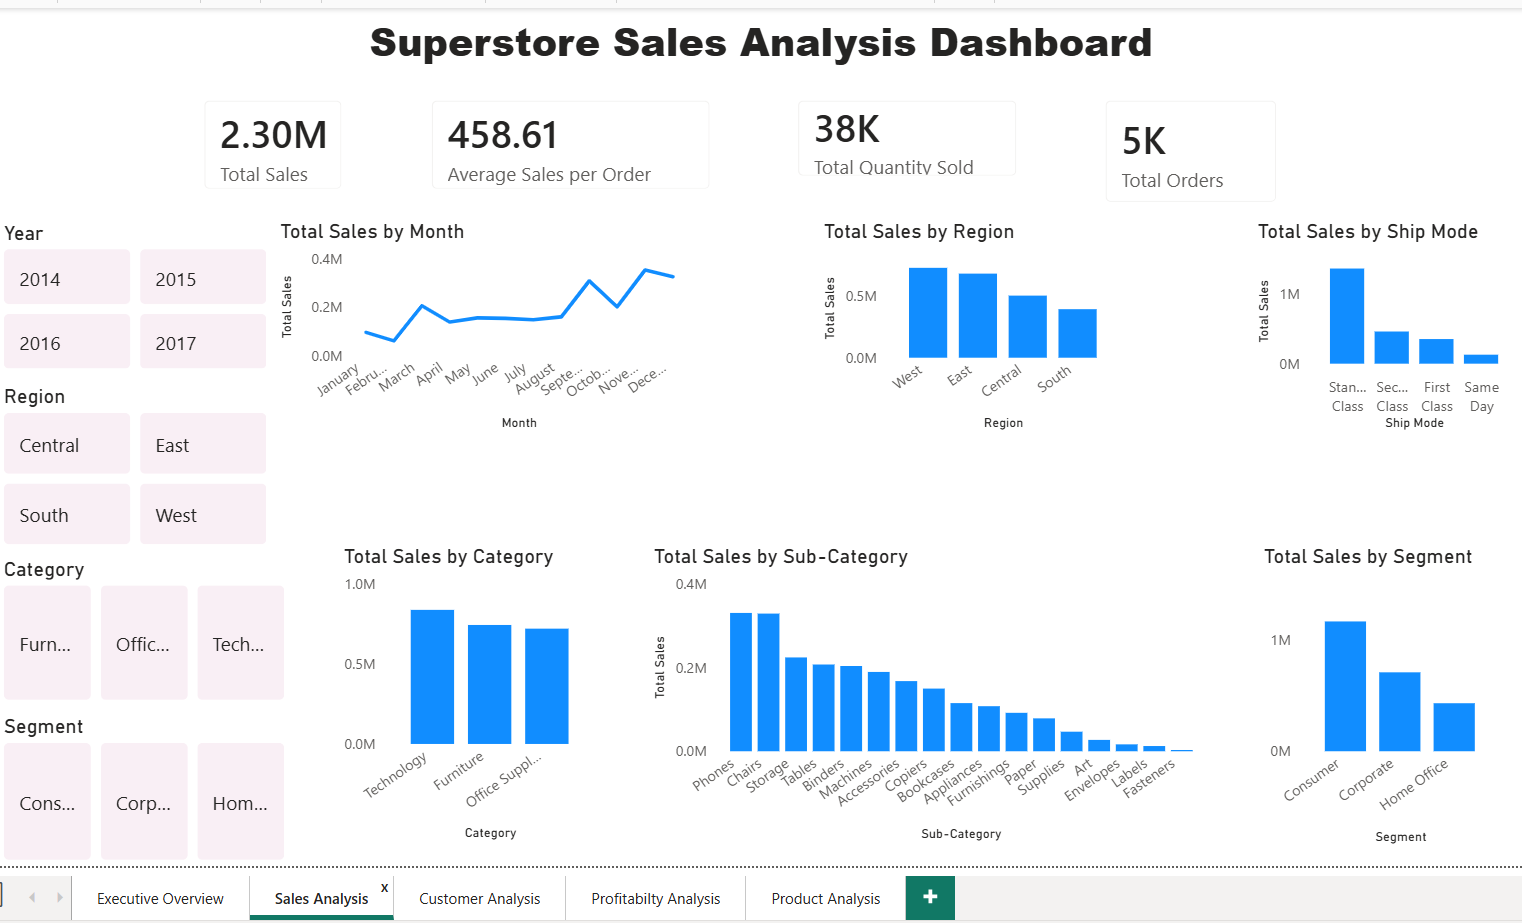

What the dashboard file says about the page in this screenshot:
{"tool":"powerbi","page":{"name":"Sales Analysis","canvas":[1280,720],"ordinal":1},"visuals":[{"type":"cardVisual","fields":{"Data":["Measures (2).Total Sales"]},"box":[156.6,61.3,149.8,108.9],"z":0},{"type":"cardVisual","fields":{"Data":["Measures (2).Total Orders"]},"box":[912.3,61.3,177,119.1],"z":1000},{"type":"cardVisual","fields":{"Data":["Measures (2).Average Sales per Order"]},"box":[346.7,61.3,267.2,108.9],"z":2000},{"type":"cardVisual","fields":{"Data":["Measures (2).Total Quantity Sold"]},"box":[654.2,61.3,217.9,97],"z":3000},{"type":"lineChart","fields":{"Y":["Measures (2).Total Sales"],"Category":["Dim_Date.Order Date.Variation.Date Hierarchy.Month"]},"box":[231.5,177,348.9,182.1],"z":4000},{"type":"clusteredColumnChart","fields":{"Y":["Measures (2).Total Sales"],"Category":["Dim_Product.Category"]},"box":[284.9,450.1,219.8,253.5],"z":5000},{"type":"columnChart","fields":{"Category":["Dim_Product.Sub-Category"],"Y":["Measures (2).Total Sales"]},"box":[544.9,450.1,471.5,253.6],"z":6000},{"type":"columnChart","fields":{"Category":["Dim_Location.Region"],"Y":["Measures (2).Total Sales"]},"box":[687.7,177,257,182.1],"z":7000},{"type":"columnChart","fields":{"Category":["Dim_Shipmode.Ship Mode"],"Y":["Measures (2).Total Sales"]},"box":[1051.9,177,228.1,182.1],"z":8000},{"type":"textbox","box":[0,0,1280.2,55.8],"z":9000},{"type":"advancedSlicerVisual","fields":{"Values":["Dim_Customer.Segment"]},"box":[0,592.3,246.8,127.7],"z":11000},{"type":"advancedSlicerVisual","fields":{"Values":["Dim_Location.Region"]},"box":[0,315.5,231.5,139.6],"z":12000},{"type":"advancedSlicerVisual","fields":{"Values":["Dim_Date.Order Date.Variation.Date Hierarchy.Year"]},"box":[0,178.7,231.5,131.1],"z":13000},{"type":"columnChart","fields":{"Category":["Dim_Customer.Segment"],"Y":["Measures (2).Total Sales"]},"box":[1056.6,450.1,207.2,256.6],"z":15000},{"type":"advancedSlicerVisual","fields":{"Values":["Dim_Product.Category"]},"box":[0,460.7,246.8,126],"z":16000}]}

Visuals, with their boxes on the page's 1280x720 design canvas (x1, y1, x2, y2). These are canvas units, not pixel positions in the 1522x923 screenshot, which may show the page scaled, cropped or inside an application window:
cardVisual - Measures (2).Total Sales: pyautogui.locateOnScreen(157, 61, 306, 170)
cardVisual - Measures (2).Total Orders: pyautogui.locateOnScreen(912, 61, 1089, 180)
cardVisual - Measures (2).Average Sales per Order: pyautogui.locateOnScreen(347, 61, 614, 170)
cardVisual - Measures (2).Total Quantity Sold: pyautogui.locateOnScreen(654, 61, 872, 158)
lineChart - Measures (2).Total Sales x Dim_Date.Order Date.Variation.Date Hierarchy.Month: pyautogui.locateOnScreen(232, 177, 580, 359)
clusteredColumnChart - Measures (2).Total Sales x Dim_Product.Category: pyautogui.locateOnScreen(285, 450, 505, 704)
columnChart - Dim_Product.Sub-Category x Measures (2).Total Sales: pyautogui.locateOnScreen(545, 450, 1016, 704)
columnChart - Dim_Location.Region x Measures (2).Total Sales: pyautogui.locateOnScreen(688, 177, 945, 359)
columnChart - Dim_Shipmode.Ship Mode x Measures (2).Total Sales: pyautogui.locateOnScreen(1052, 177, 1280, 359)
textbox: pyautogui.locateOnScreen(0, 0, 1280, 56)
advancedSlicerVisual - Dim_Customer.Segment: pyautogui.locateOnScreen(0, 592, 247, 720)
advancedSlicerVisual - Dim_Location.Region: pyautogui.locateOnScreen(0, 316, 232, 455)
advancedSlicerVisual - Dim_Date.Order Date.Variation.Date Hierarchy.Year: pyautogui.locateOnScreen(0, 179, 232, 310)
columnChart - Dim_Customer.Segment x Measures (2).Total Sales: pyautogui.locateOnScreen(1057, 450, 1264, 707)
advancedSlicerVisual - Dim_Product.Category: pyautogui.locateOnScreen(0, 461, 247, 587)
